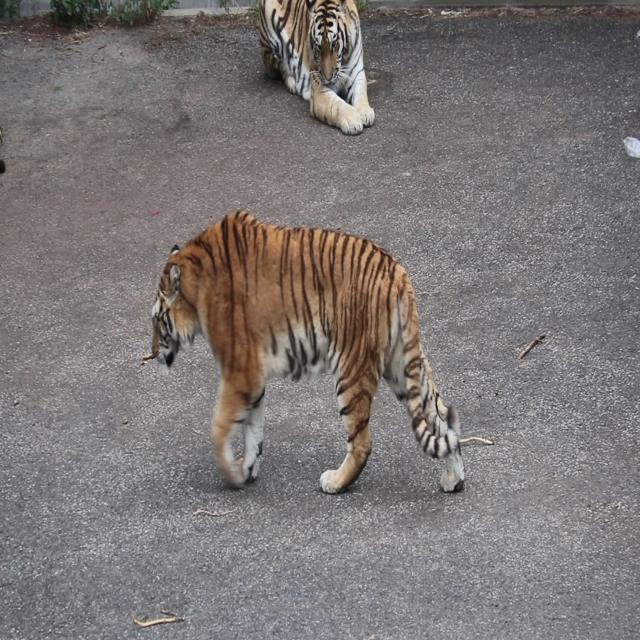Tiger: (143, 176, 480, 510), (256, 0, 379, 138)
